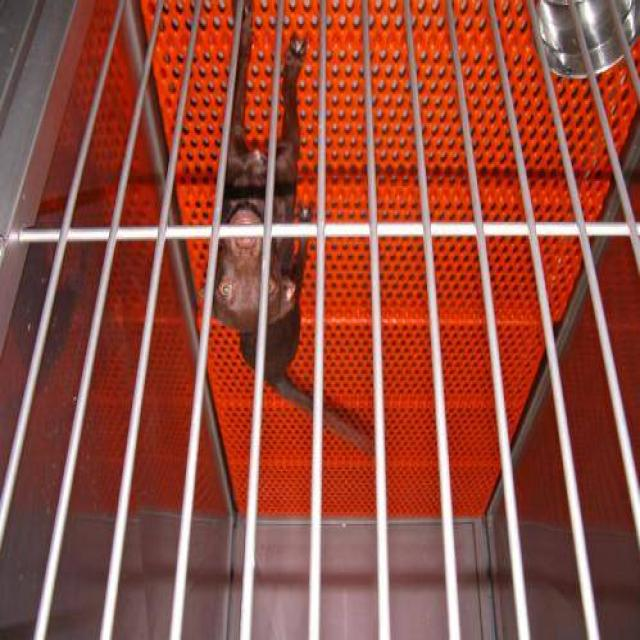dog: (192, 20, 360, 450)
